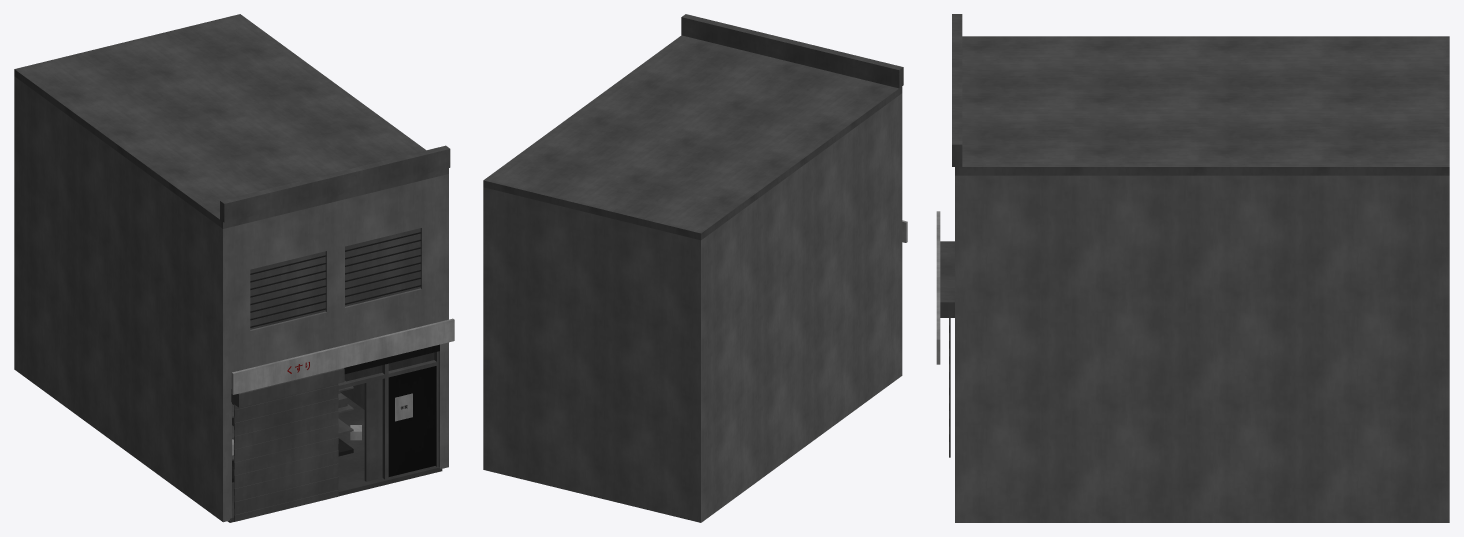
File: shop_pharmacy.glb
The picture shows the model from 3 angles, left to right: view 1: azimuth 30°, elevation 25°; view 2: azimuth 150°, elevation 25°; view 3: azimuth 270°, elevation 25°; orthographic projection. The views are drawn at different scales.
Visible parts, largest first — view 1: shop_pharmacy; view 2: shop_pharmacy; view 3: shop_pharmacy.
Part boxes in pixels (x1=…): shop_pharmacy: x1=14, y1=14, x2=454, y2=522; shop_pharmacy: x1=483, y1=14, x2=907, y2=522; shop_pharmacy: x1=936, y1=14, x2=1449, y2=522.
Size of the model in its own units: 5 by 6.8 by 8.31.
14 materials, 14 textured.
